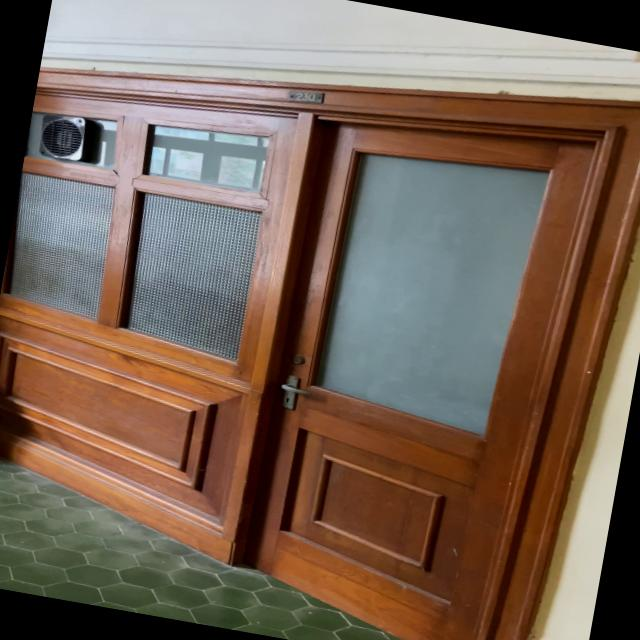room230: (283, 84, 328, 108)
